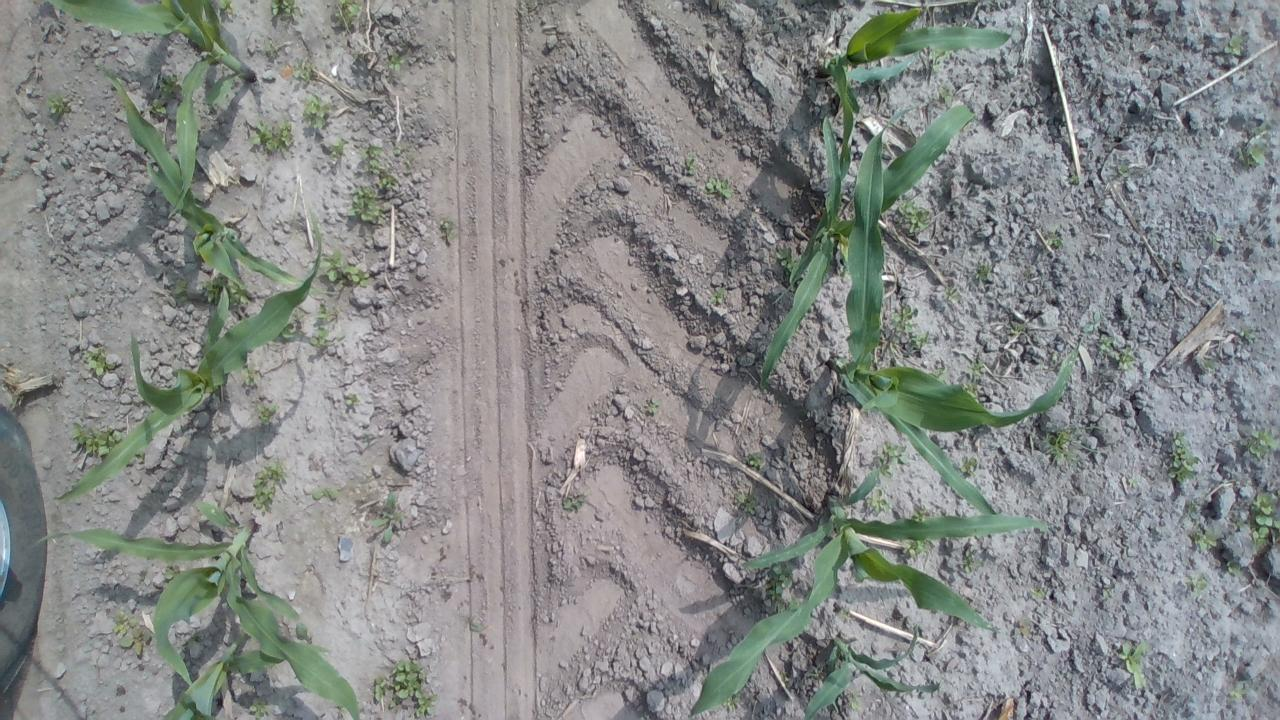Maize: (830, 106, 1084, 533), (688, 464, 1056, 717), (35, 500, 365, 720), (756, 100, 981, 392), (52, 268, 318, 505), (108, 71, 325, 300), (48, 0, 262, 218), (817, 7, 1013, 180), (794, 632, 945, 718), (159, 640, 304, 720)
Weeds: (366, 657, 447, 720), (364, 491, 417, 548), (1158, 426, 1204, 488), (891, 300, 935, 363), (1243, 489, 1280, 562), (1114, 630, 1157, 690), (1044, 420, 1088, 474), (318, 246, 369, 292), (69, 422, 126, 463), (1098, 331, 1142, 379), (1240, 120, 1278, 175), (107, 610, 151, 657), (346, 187, 388, 231), (250, 463, 291, 507), (894, 194, 933, 240), (954, 351, 992, 398), (1242, 426, 1280, 464), (874, 438, 911, 476), (968, 254, 1001, 296), (300, 96, 336, 134), (436, 206, 464, 253), (1108, 155, 1150, 186), (954, 546, 992, 580), (1038, 225, 1076, 258), (82, 341, 113, 380), (248, 119, 279, 157), (762, 574, 792, 612), (306, 328, 351, 353), (932, 281, 966, 314), (309, 480, 346, 509), (1189, 525, 1220, 558), (256, 399, 286, 432), (956, 450, 990, 479), (1188, 568, 1212, 608), (731, 491, 764, 520), (314, 306, 348, 334), (1004, 310, 1032, 344), (270, 0, 308, 25), (1094, 573, 1120, 608), (292, 54, 322, 84), (365, 172, 402, 196), (867, 486, 894, 518), (704, 174, 731, 206), (901, 538, 934, 564), (562, 487, 589, 518), (1224, 674, 1250, 706), (336, 3, 364, 32), (380, 50, 410, 77), (1223, 31, 1244, 68), (1034, 584, 1065, 608), (363, 144, 388, 173), (644, 388, 664, 424), (933, 82, 959, 109), (238, 367, 263, 395), (1221, 560, 1246, 587), (49, 94, 70, 125), (325, 136, 352, 160), (1238, 322, 1260, 350), (246, 701, 277, 720), (710, 282, 731, 310), (682, 148, 701, 178), (741, 447, 768, 468), (278, 120, 292, 152), (339, 389, 356, 415), (850, 690, 866, 715)
